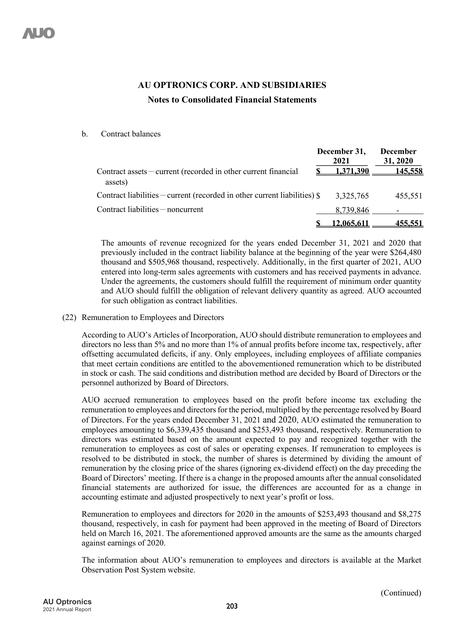box: (97, 146, 426, 231)
